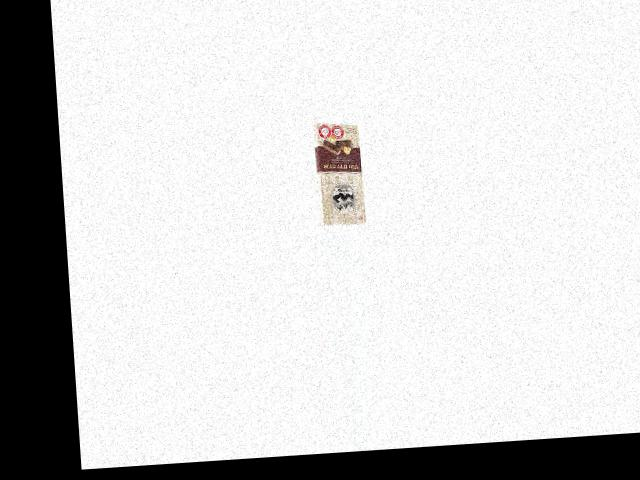chocolate: (305, 118, 367, 227)
